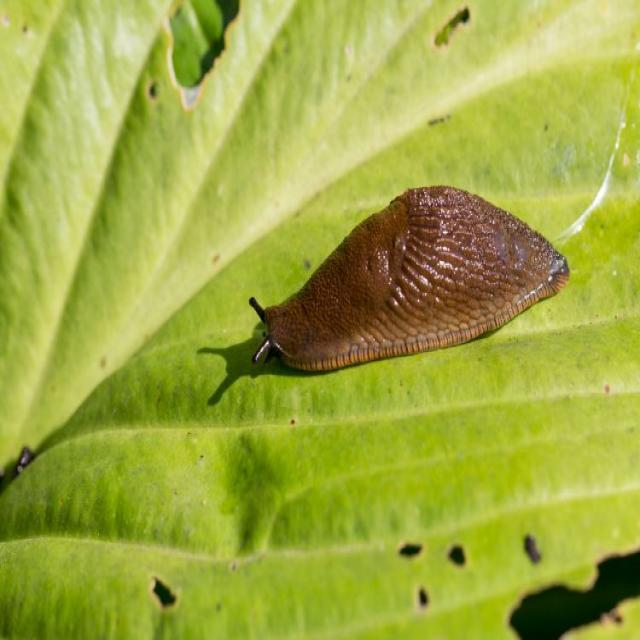slug: (245, 167, 578, 390)
